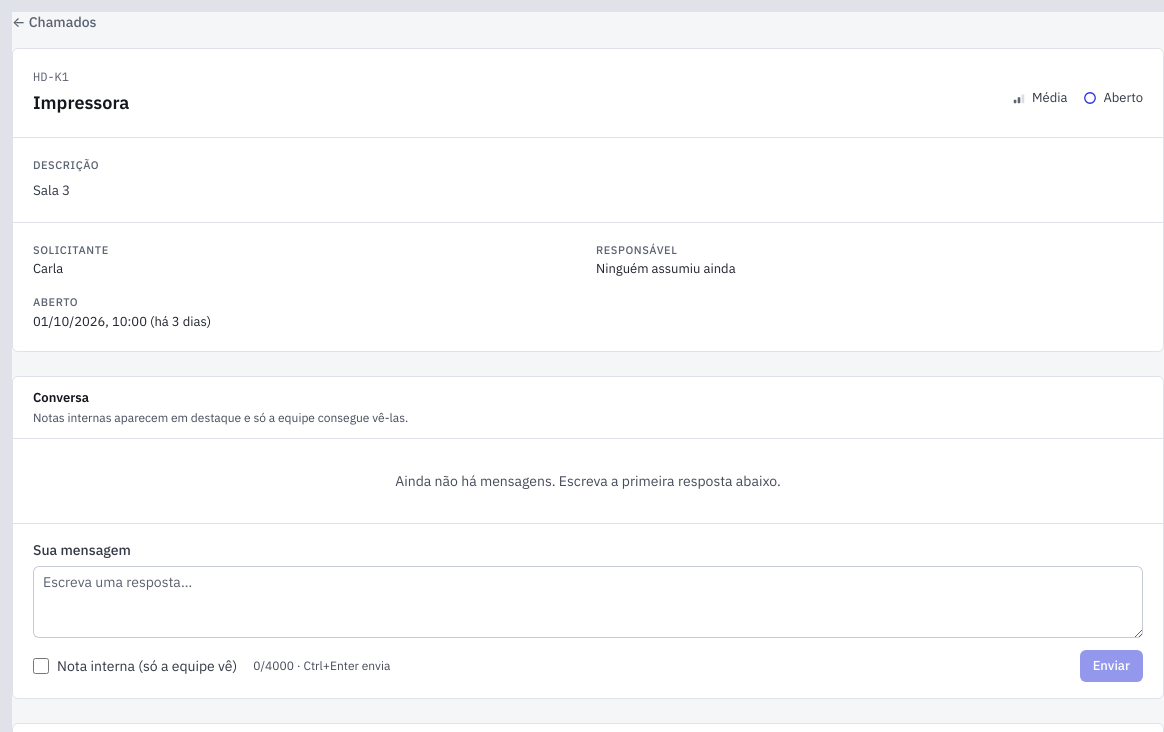
it: Compositor › mostra o motivo quando o servidor recusa (ex.: regra de negócio)
Type "texto" into the text box labelled "Sua mensagem".
click(588, 602); type("texto")  # box [33,566,1143,638]
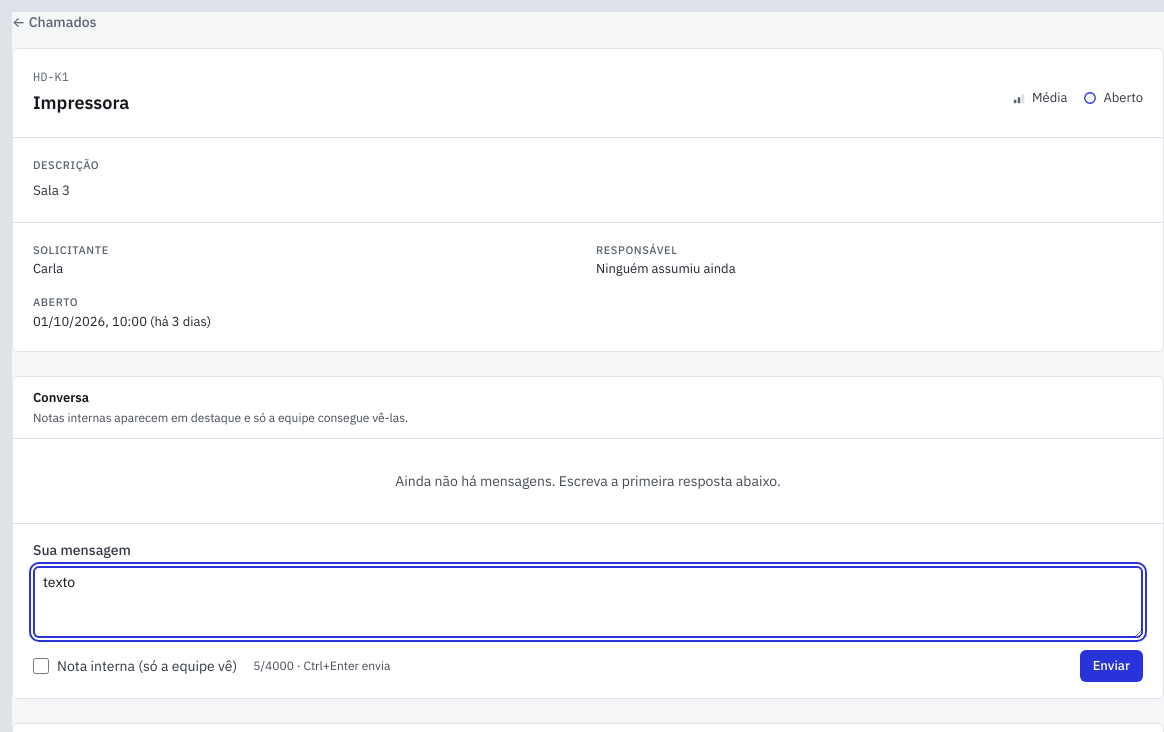
Click the button "Enviar".
click(1111, 666)  # box [1080,650,1143,682]
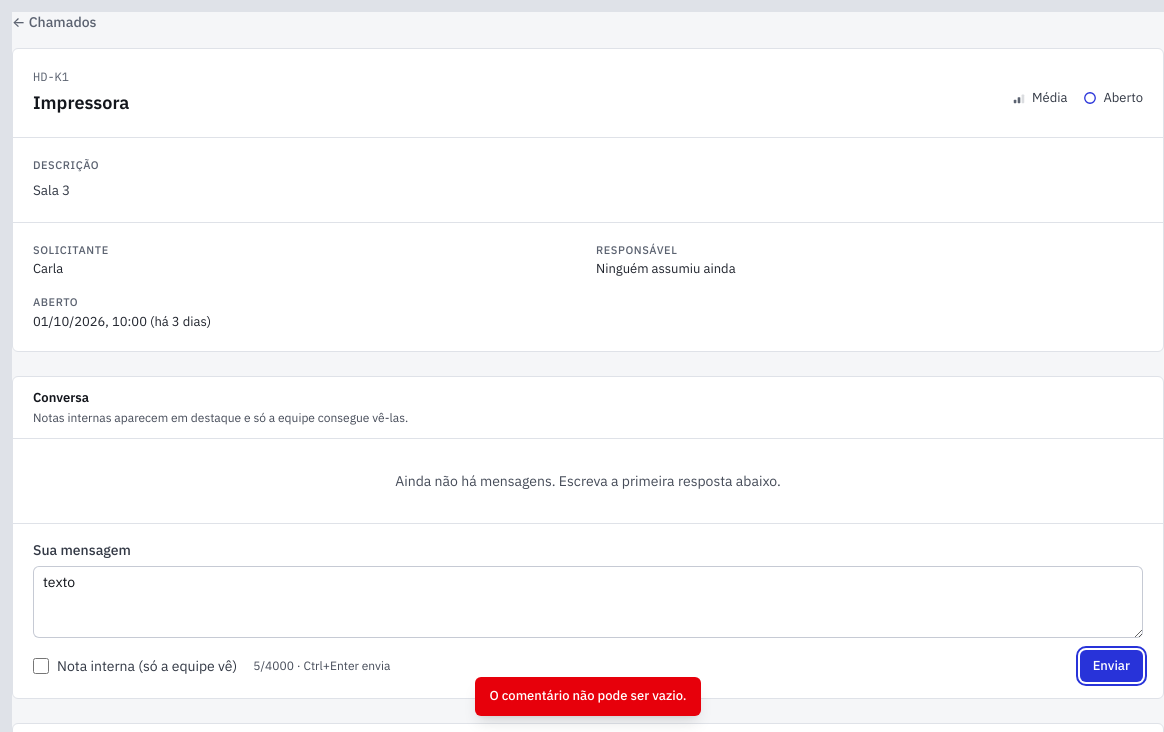
Expected: the text "O comentário não pode ser vazio." is shown, [476,677,701,716]
